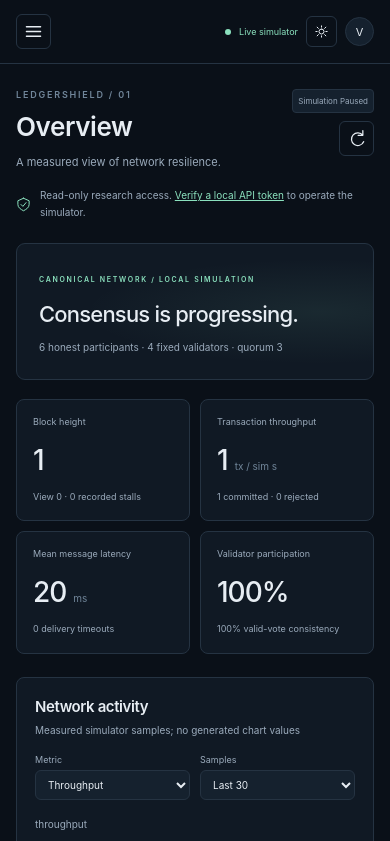
Test: research dashboard workflows › supports light theme and mobile navigation without changing access
The image size is (390, 841).
Check: the heading "Consensus is progressing." is shown, box [39,299,298,330]
Click the button named "Switch to light theme" at (322, 32), box [306,16,337,47]
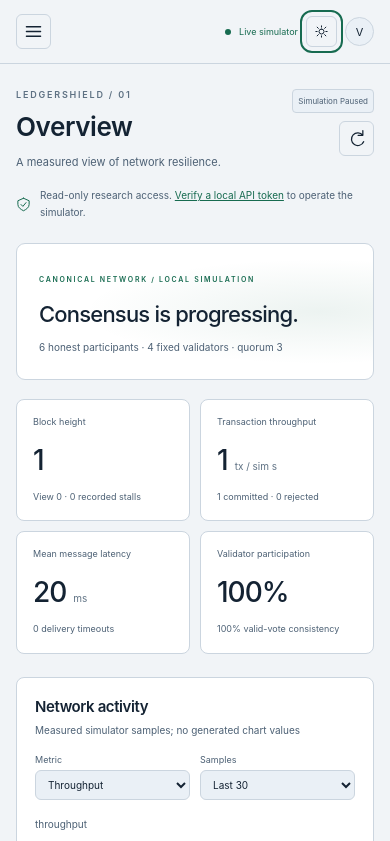
Click the button named "Open navigation" at (34, 32), box [16,14,51,49]
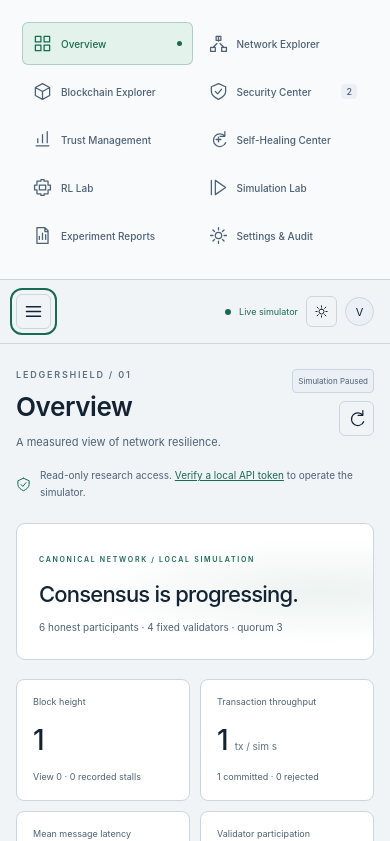
Check: the button named "Close navigation" is expanded, box [16,294,51,329]
